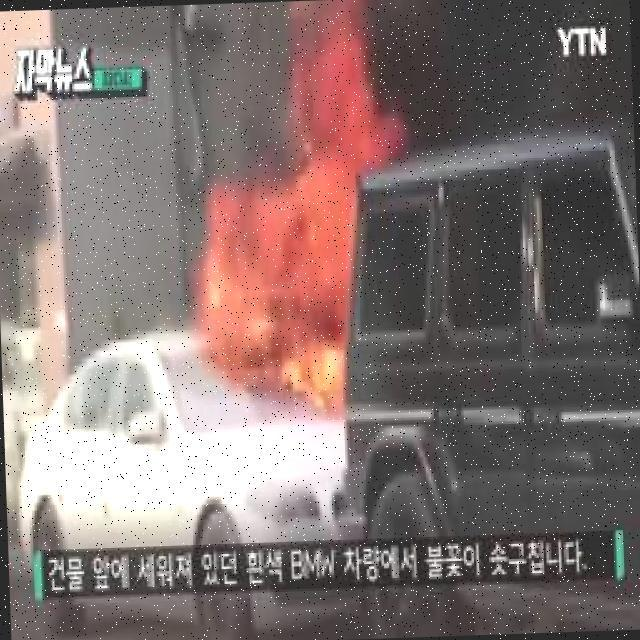Fire: (210, 67, 407, 396)
